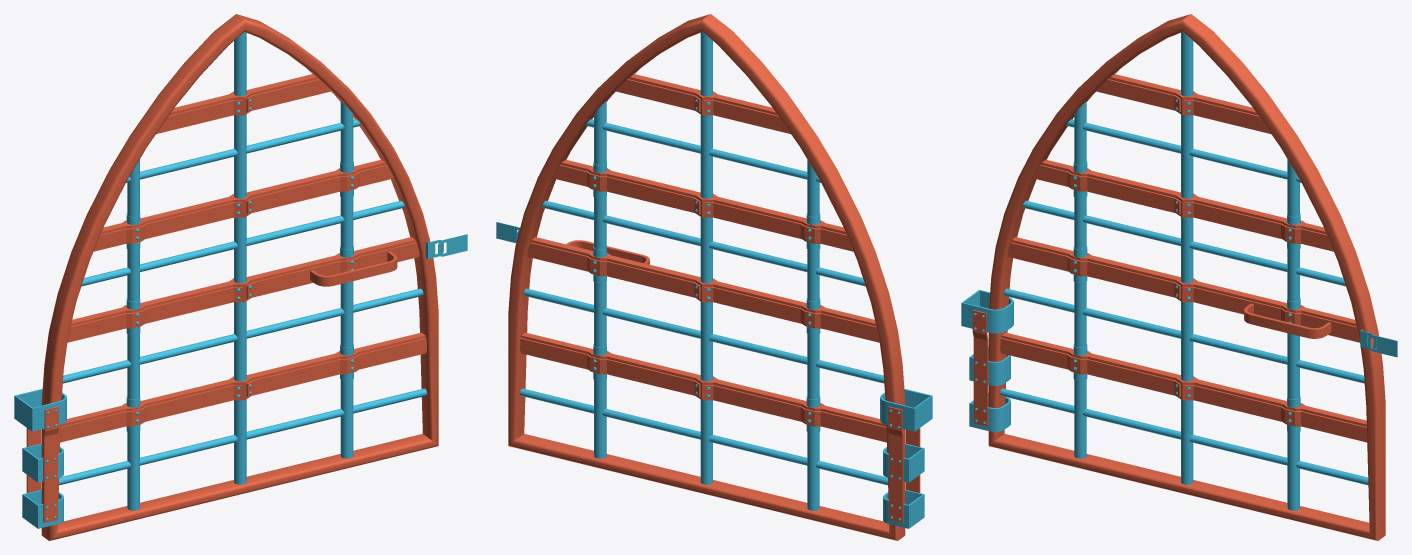
The model's file is Floor_01_JailDoor_01_a.fbx.
The picture shows the model from 3 angles, left to right: view 1: azimuth 30°, elevation 25°; view 2: azimuth 150°, elevation 25°; view 3: azimuth 330°, elevation 25°; orthographic projection.
Visible parts, largest first — view 1: Brick_02_Lowpoly.002, Vis.001; view 2: Brick_02_Lowpoly.002, Vis.001; view 3: Brick_02_Lowpoly.002, Vis.001.
Part boxes in pixels (x1=…): Brick_02_Lowpoly.002: x1=41, y1=14, x2=443, y2=540; Vis.001: x1=14, y1=234, x2=467, y2=528; Brick_02_Lowpoly.002: x1=508, y1=14, x2=905, y2=540; Vis.001: x1=496, y1=222, x2=932, y2=528; Brick_02_Lowpoly.002: x1=988, y1=14, x2=1385, y2=540; Vis.001: x1=961, y1=290, x2=1397, y2=431.
Size of the model in its own units: 156 by 162 by 15.57.
